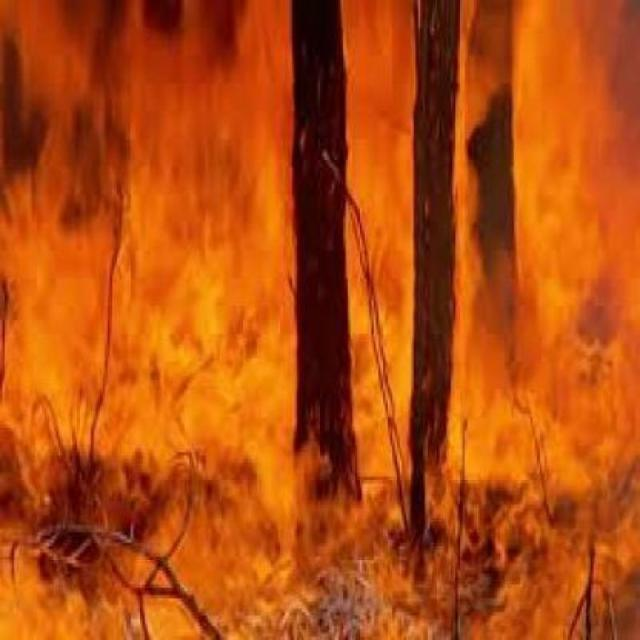Fire: (5, 100, 640, 640)
